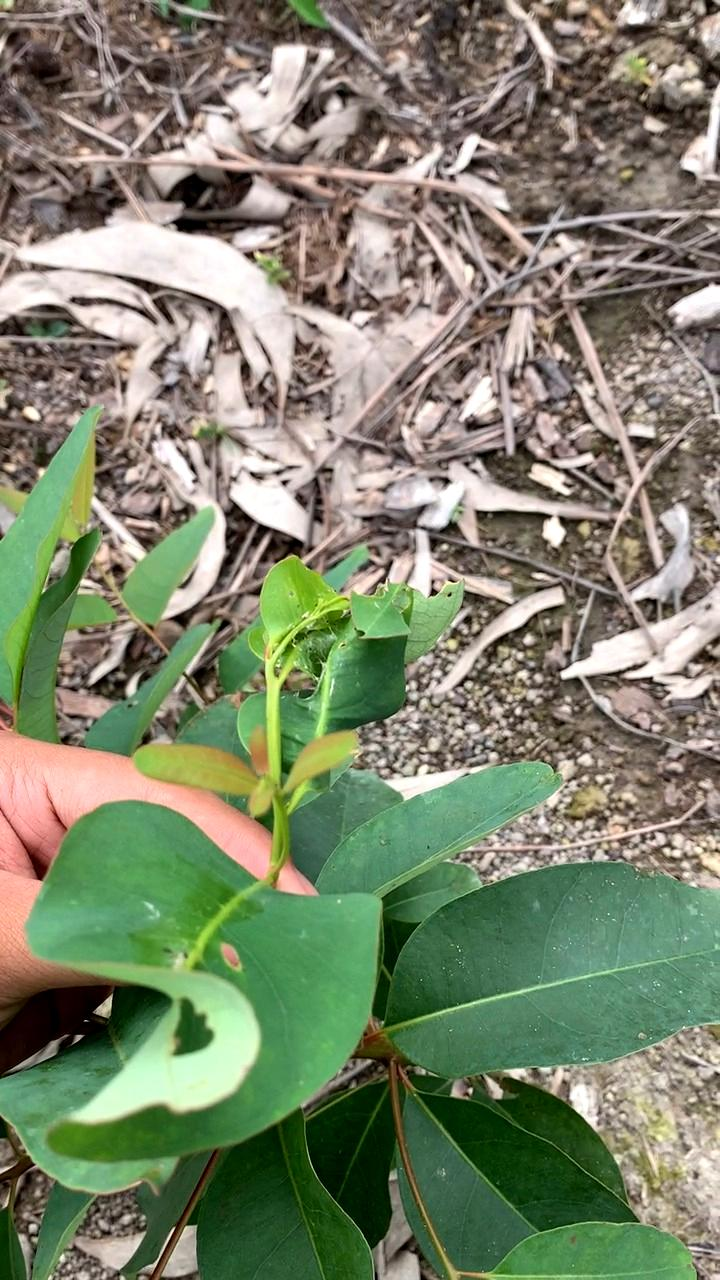Leaf Roller - Leaf: (251, 553, 471, 735)
